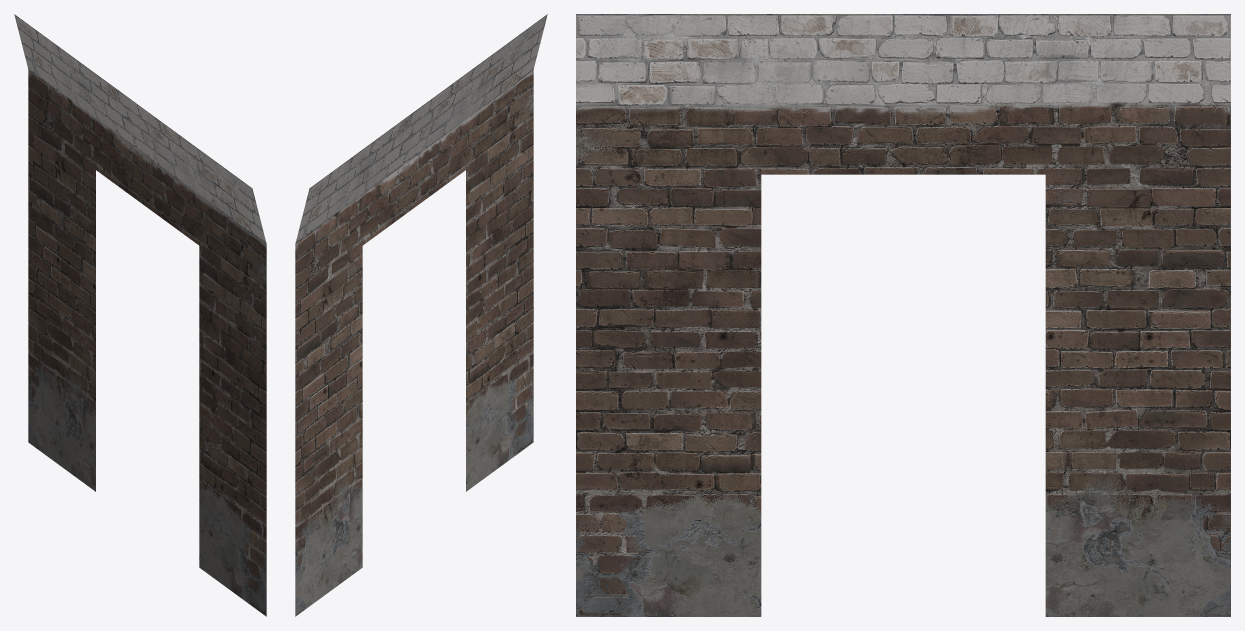
File: wall_door.FBX
The picture shows the model from 3 angles, left to right: view 1: azimuth 30°, elevation 25°; view 2: azimuth 150°, elevation 25°; view 3: azimuth 270°, elevation 25°; orthographic projection. The views are drawn at different scales.
Parts seen in each view (by area): view 1: wall_door; view 2: wall_door; view 3: wall_door.
Part boxes in pixels (x1,y1,x2,y2): wall_door: (14,14,266,616); wall_door: (295,14,547,616); wall_door: (576,14,1230,616).
Size of the model in its own units: 3.45 by 100 by 100.
